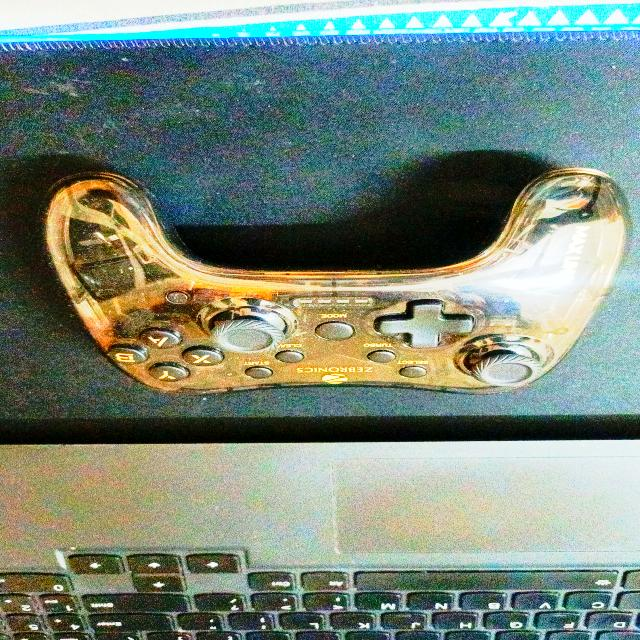gamepad: (43, 166, 630, 397)
